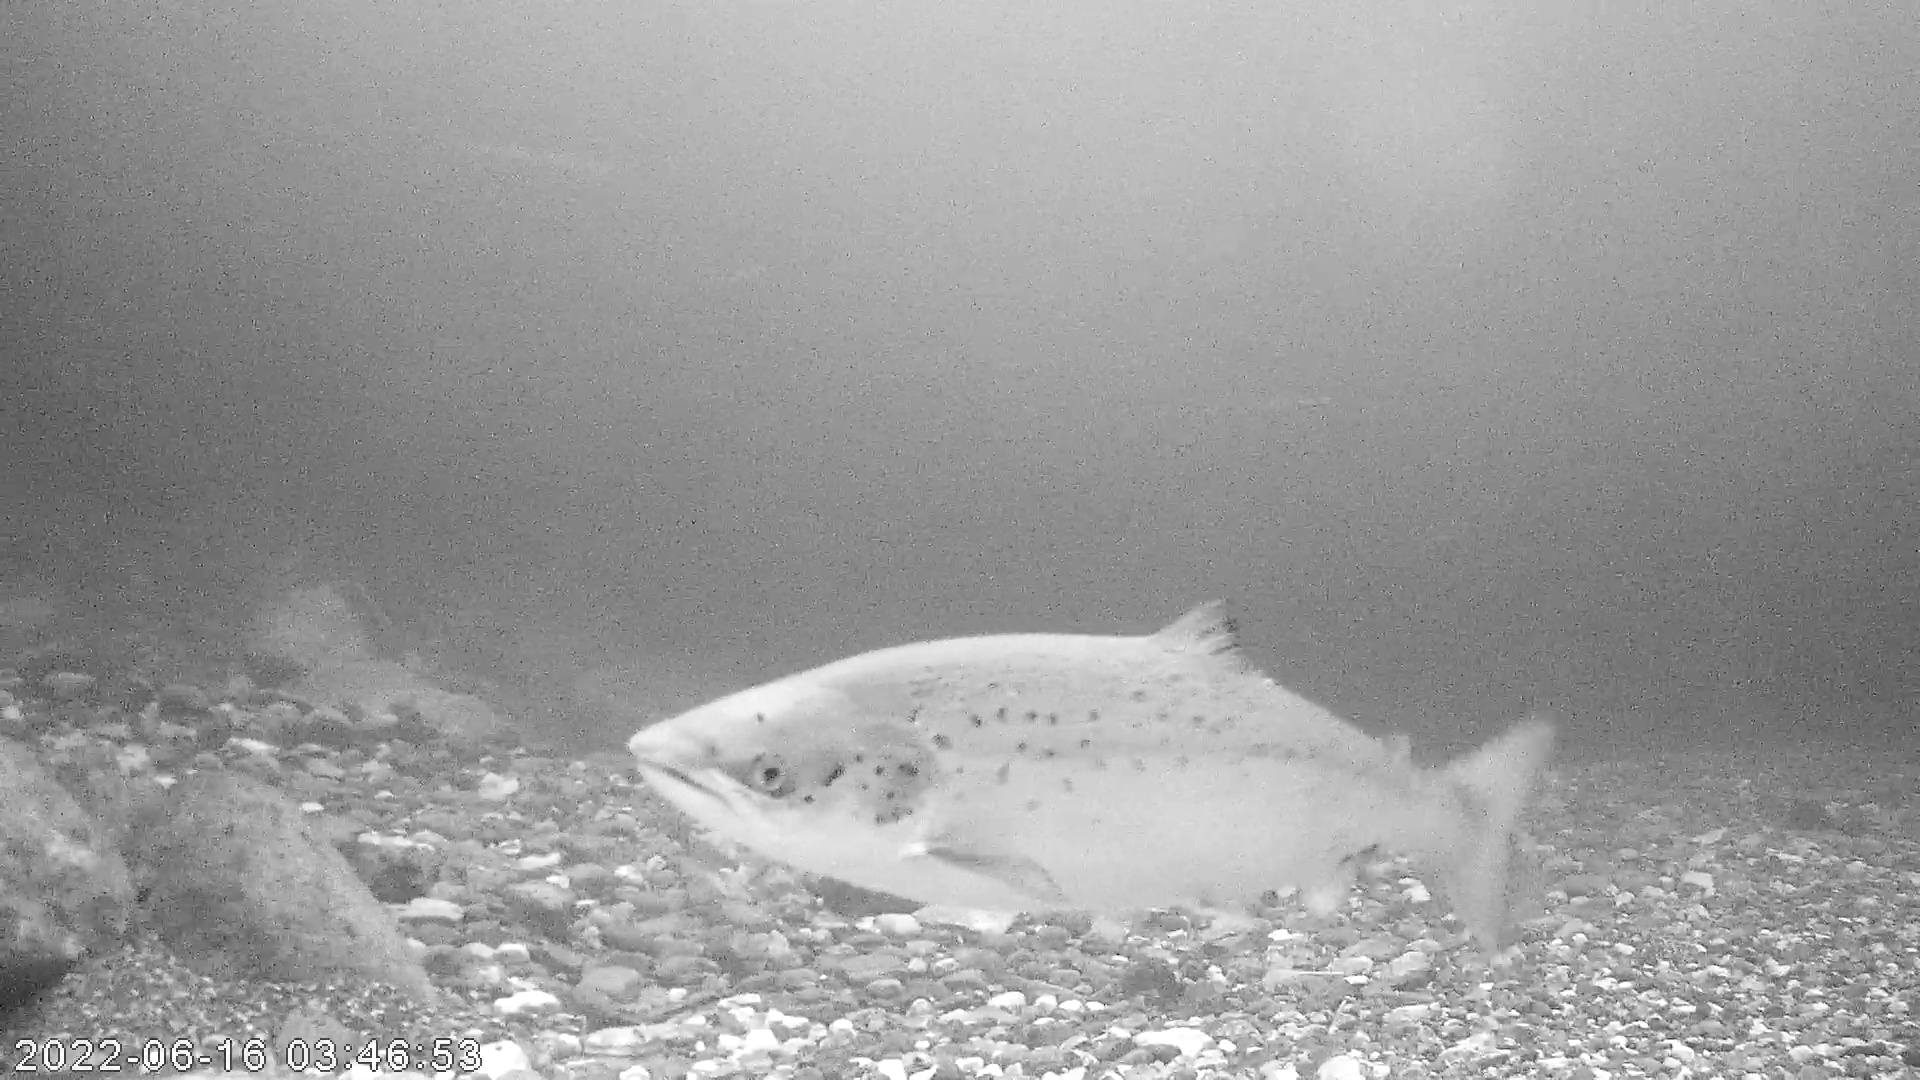salmon: (624, 593, 1561, 964)
